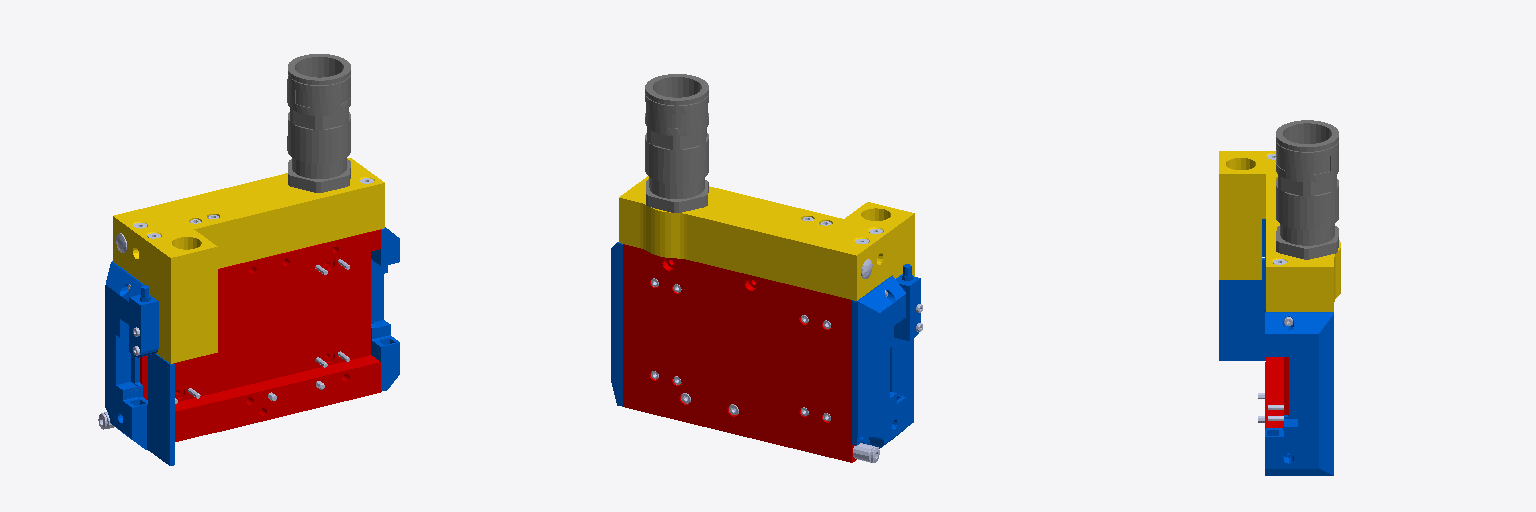
File: Robotic_Arm_Floating_Y.obj
3 views of the same model, side by side, from view 1: azimuth 30°, elevation 25°; view 2: azimuth 150°, elevation 25°; view 3: azimuth 270°, elevation 25° (orthographic).
Parts seen in each view (by area): view 1: Corpo26, Corpo116, Corpo6 Corpo40 Corpo130 Corpo29 Corpo32, Corpo146; view 2: Corpo26, Corpo116, Corpo6 Corpo40 Corpo130 Corpo29 Corpo32, Corpo146; view 3: Corpo6 Corpo40 Corpo130 Corpo29 Corpo32, Corpo116, Corpo146, Corpo26.
Part boxes in pixels (bbox=[...]): Corpo26: bbox=[140, 229, 380, 441]; Corpo116: bbox=[113, 158, 384, 363]; Corpo6 Corpo40 Corpo130 Corpo29 Corpo32: bbox=[105, 227, 399, 465]; Corpo146: bbox=[287, 54, 350, 192]; Corpo26: bbox=[623, 244, 856, 462]; Corpo116: bbox=[619, 176, 914, 300]; Corpo6 Corpo40 Corpo130 Corpo29 Corpo32: bbox=[611, 242, 920, 448]; Corpo146: bbox=[645, 74, 708, 212]; Corpo6 Corpo40 Corpo130 Corpo29 Corpo32: bbox=[1219, 219, 1333, 475]; Corpo116: bbox=[1219, 151, 1340, 311]; Corpo146: bbox=[1276, 120, 1338, 259]; Corpo26: bbox=[1265, 230, 1288, 429].
Bounding box in the file's own units: 183 × 204 × 71.